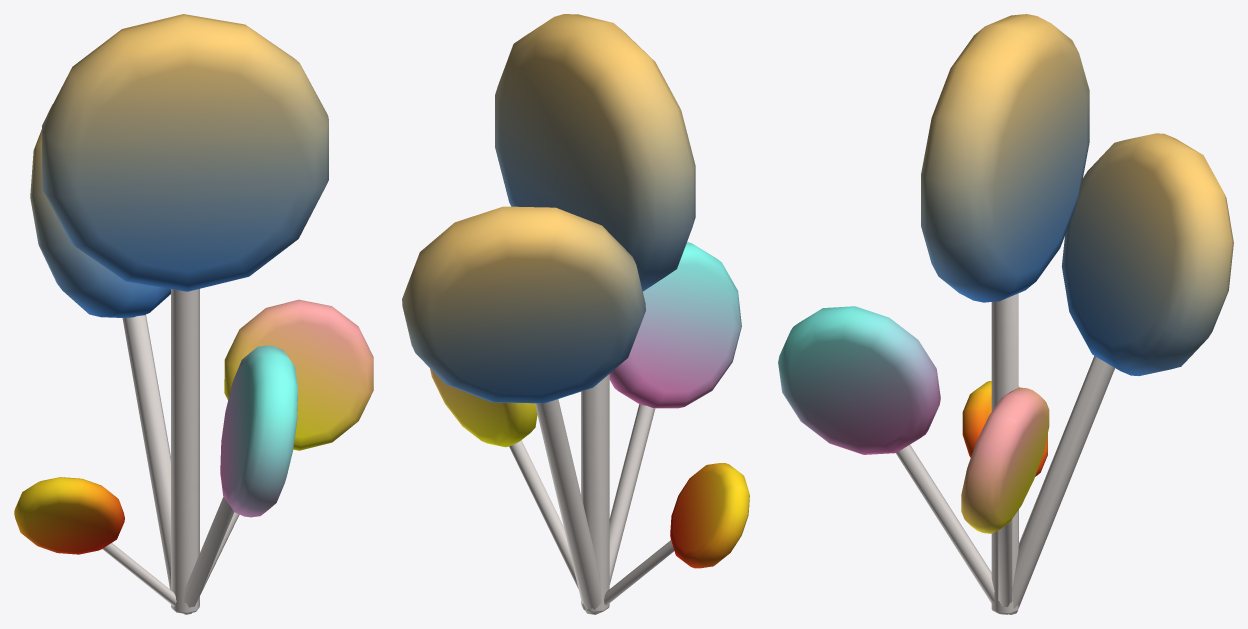
File: cw_PlantsFlowers_21.fbx
3 views of the same model, side by side, from view 1: azimuth 30°, elevation 25°; view 2: azimuth 150°, elevation 25°; view 3: azimuth 270°, elevation 25° (orthographic).
Parts seen in each view (by area): view 1: cw_pf_21; view 2: cw_pf_21; view 3: cw_pf_21.
Part boxes in pixels (left/top/right/bottom): cw_pf_21: left=14, top=14, right=373, bottom=614; cw_pf_21: left=402, top=14, right=749, bottom=614; cw_pf_21: left=778, top=14, right=1233, bottom=614.
Bounding box in the file's own units: 114 × 192 × 136.
